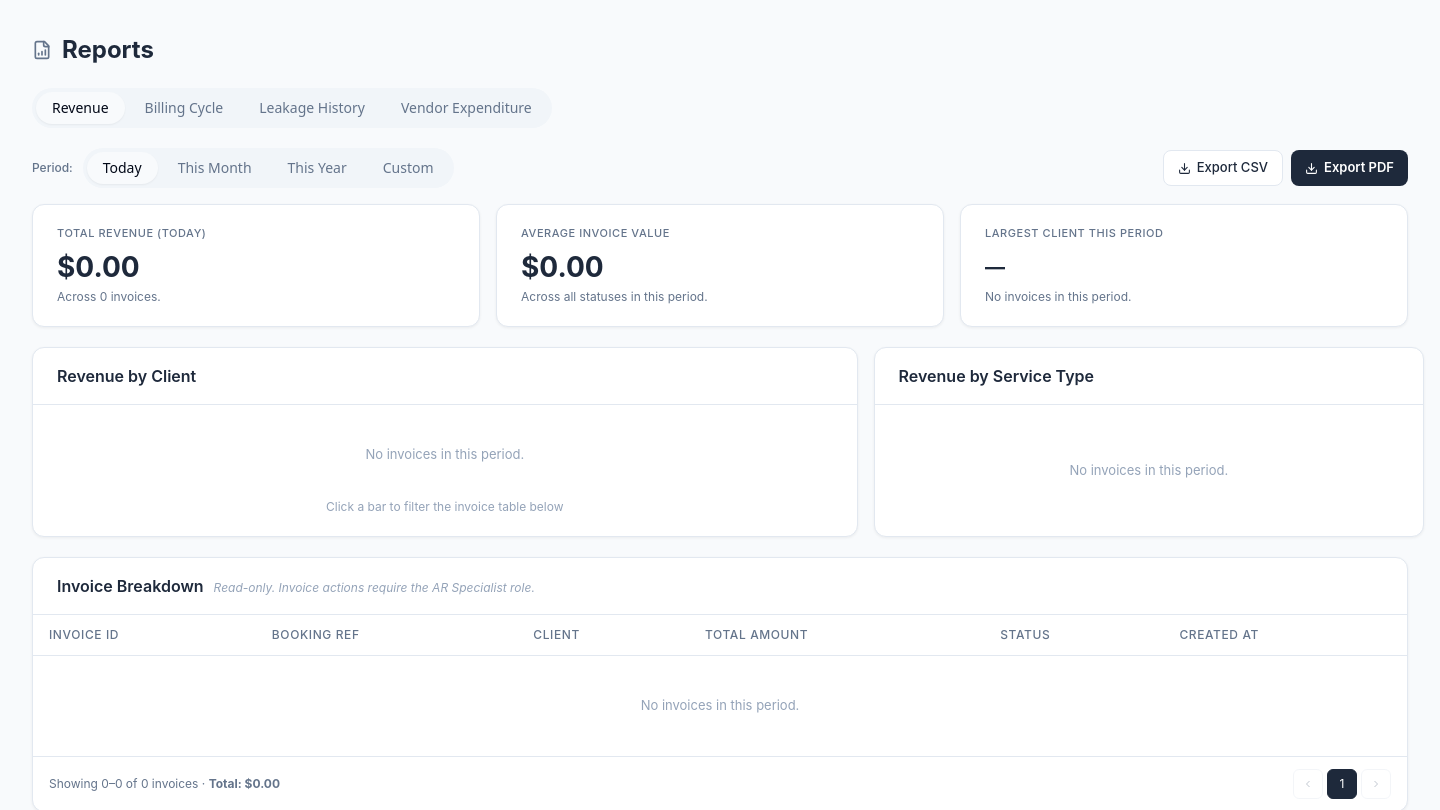
Scenario: Leakage History tab renders the real monthly summary and row from getLeakageHistory
Click the button "Leakage History" at (312, 108), box [243,92,381,124]
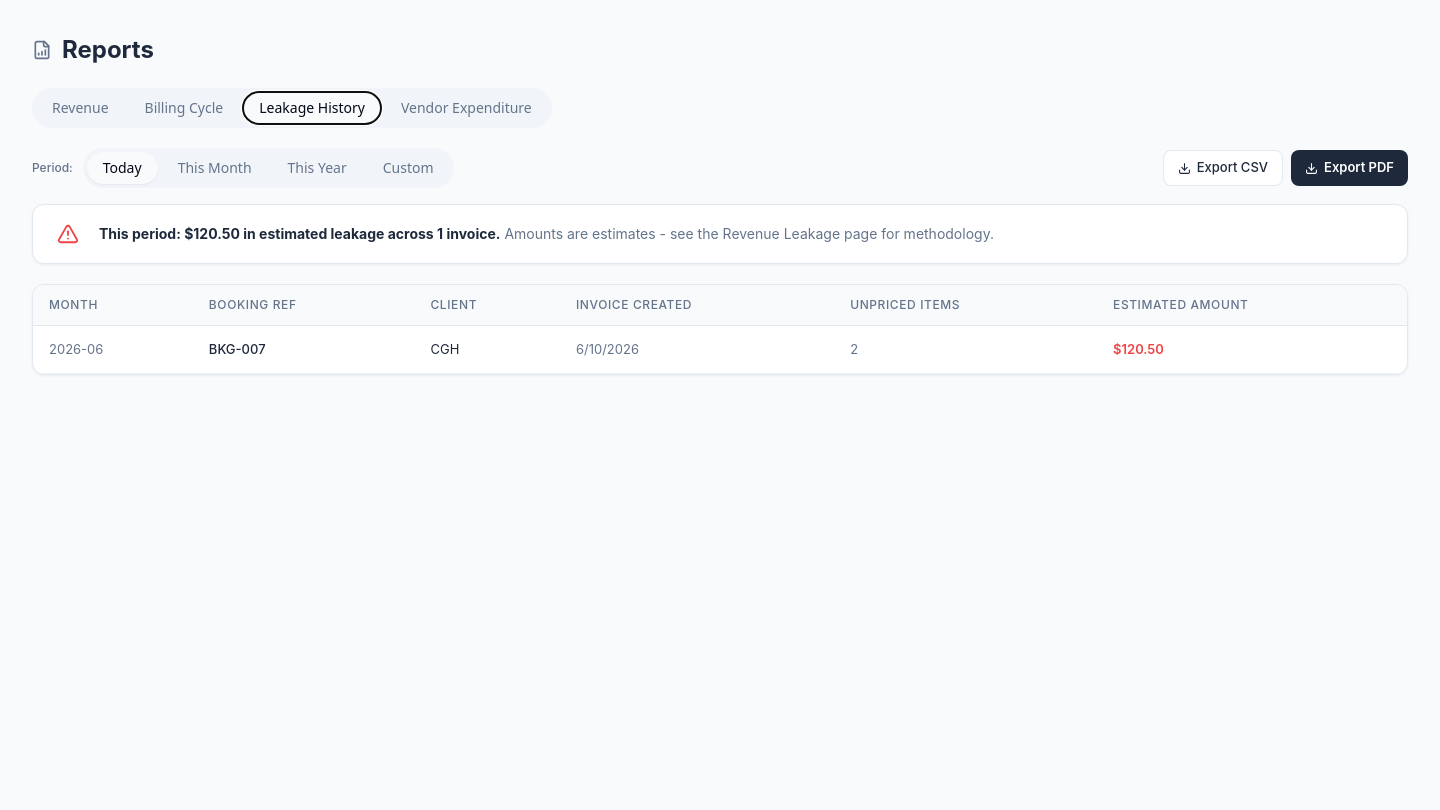
Now the text "This period: $120.50 in estimated leakage across 1 invoice." is shown, box [99,225,500,242]
Now the text "BKG-007" is shown, box [193,326,414,374]
